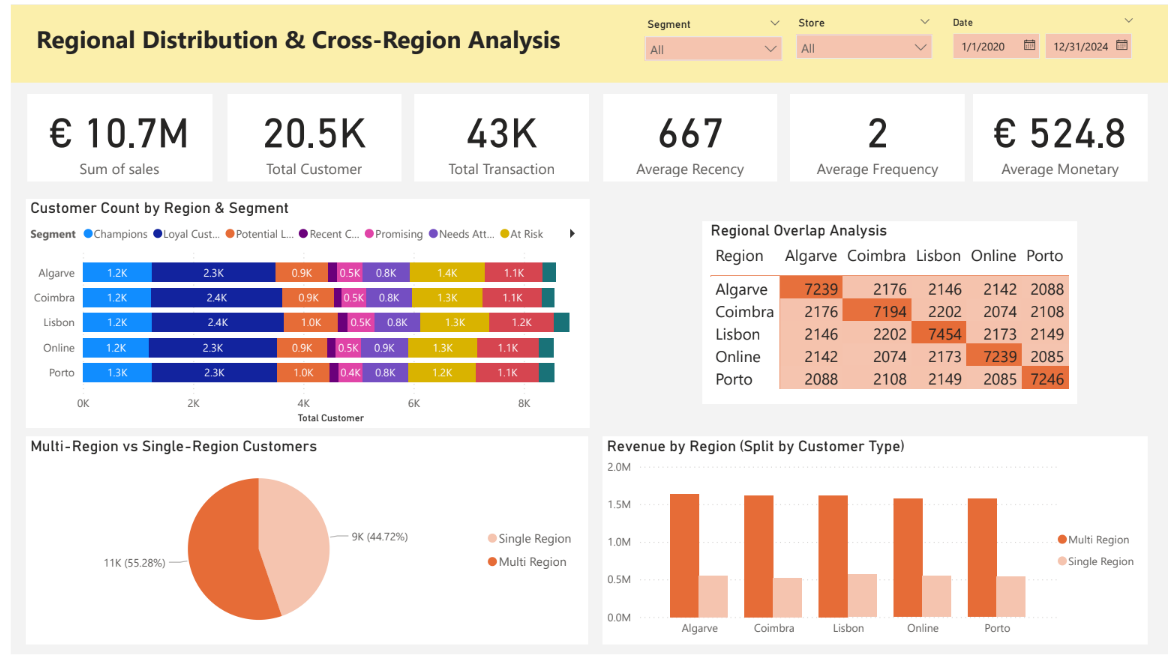

This screenshot's page, from the dashboard's own definition file:
{"tool":"powerbi","page":{"name":"Regional Distribution & Cross-Region Analysis","canvas":[1280,720],"ordinal":2},"visuals":[{"type":"shape","box":[0,0,1280.8,85.8],"z":0},{"type":"card","fields":{"Values":["Sum(df.sales)"]},"box":[17.8,98.8,205.6,97.2],"z":1000},{"type":"card","fields":{"Values":["Count(df.transaction_id)"]},"box":[446.9,98.8,192.7,97.2],"z":2000},{"type":"card","fields":{"Values":["Count(df.customer_id)"]},"box":[239.6,98.8,192.7,97.2],"z":3000},{"type":"card","fields":{"Values":["Avg(rfm.recency)"]},"box":[655.8,98.8,192.7,97.2],"z":4000},{"type":"card","fields":{"Values":["Avg(rfm.monetary)"]},"box":[1065.5,98.8,192.7,97.2],"z":5000},{"type":"card","fields":{"Values":["Avg(rfm.frequency)"]},"box":[863,98.8,192.7,97.2],"z":6000},{"type":"textbox","box":[17.5,14.3,602.8,71.6],"z":7000},{"type":"group","id":"g1","title":"Group 1","box":[691.5,8.5,564.4,79.7],"z":8000},{"type":"barChart","title":"Customer Count by Region & Segment","fields":{"Series":["SegmentOrder.Segment"],"Y":["CountNonNull(df.customer_id)"],"Category":["df.region"]},"box":[17.5,214.7,623.5,254],"z":9000},{"type":"pivotTable","title":"Regional Overlap Analysis","fields":{"Rows":["Regions.region"],"Columns":["df.region"],"Values":["DateTable.Regional Overlap"]},"box":[765.1,240.2,415.1,202],"z":10000},{"type":"pieChart","title":"Multi-Region vs Single-Region Customers","fields":{"Y":["DateTable.Single Region Customers","DateTable.Multi Region Customers"]},"box":[17.5,478.8,621.9,230.6],"z":11000},{"type":"slicer","fields":{"Values":["DateTable.Date"]},"box":[1029.9,8.5,225.1,79.3],"z":12000,"group":"g1"},{"type":"clusteredColumnChart","title":"Revenue by Region (Split by Customer Type)","fields":{"Category":["df.region"],"Y":["DateTable.Multi Region Revenue","DateTable.Single Region Revenue"]},"box":[655.3,478.8,602.8,230.6],"z":12000},{"type":"slicer","fields":{"Values":["SegmentOrder.Segment"]},"box":[691.5,10.1,171.6,61.5],"z":13000,"group":"g1"},{"type":"slicer","fields":{"Values":["df.region"]},"box":[858.3,8.5,171.6,61.5],"z":14000,"group":"g1"}]}

Visuals, with their boxes in screenshot pixels (x1, y1, x2, y2), scaled from the page's 1280x720 canvas onto the 1174x667 screenshot:
shape: crop(0, 0, 1173, 79)
card - Sum(df.sales): crop(16, 92, 205, 182)
card - Count(df.transaction_id): crop(410, 92, 587, 182)
card - Count(df.customer_id): crop(220, 92, 397, 182)
card - Avg(rfm.recency): crop(601, 92, 778, 182)
card - Avg(rfm.monetary): crop(977, 92, 1154, 182)
card - Avg(rfm.frequency): crop(792, 92, 968, 182)
textbox: crop(16, 13, 569, 80)
"Group 1" group: crop(634, 8, 1152, 82)
"Customer Count by Region & Segment" barChart: crop(16, 199, 588, 434)
"Regional Overlap Analysis" pivotTable: crop(702, 223, 1082, 410)
"Multi-Region vs Single-Region Customers" pieChart: crop(16, 444, 586, 657)
slicer - DateTable.Date: crop(945, 8, 1151, 81)
"Revenue by Region (Split by Customer Type)" clusteredColumnChart: crop(601, 444, 1154, 657)
slicer - SegmentOrder.Segment: crop(634, 9, 792, 66)
slicer - df.region: crop(787, 8, 945, 65)
